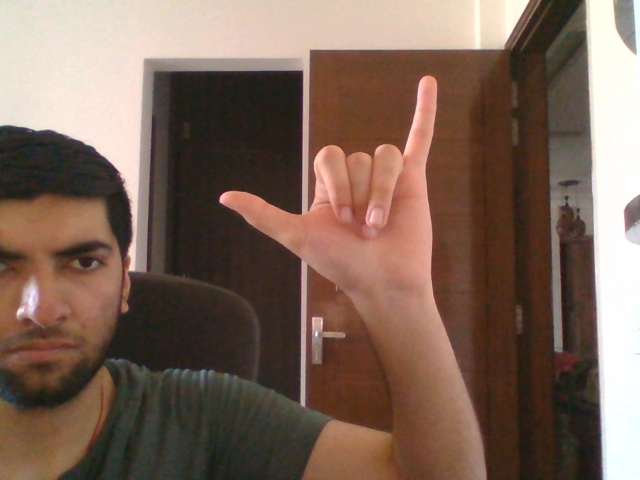LetterY: (215, 72, 440, 292)
